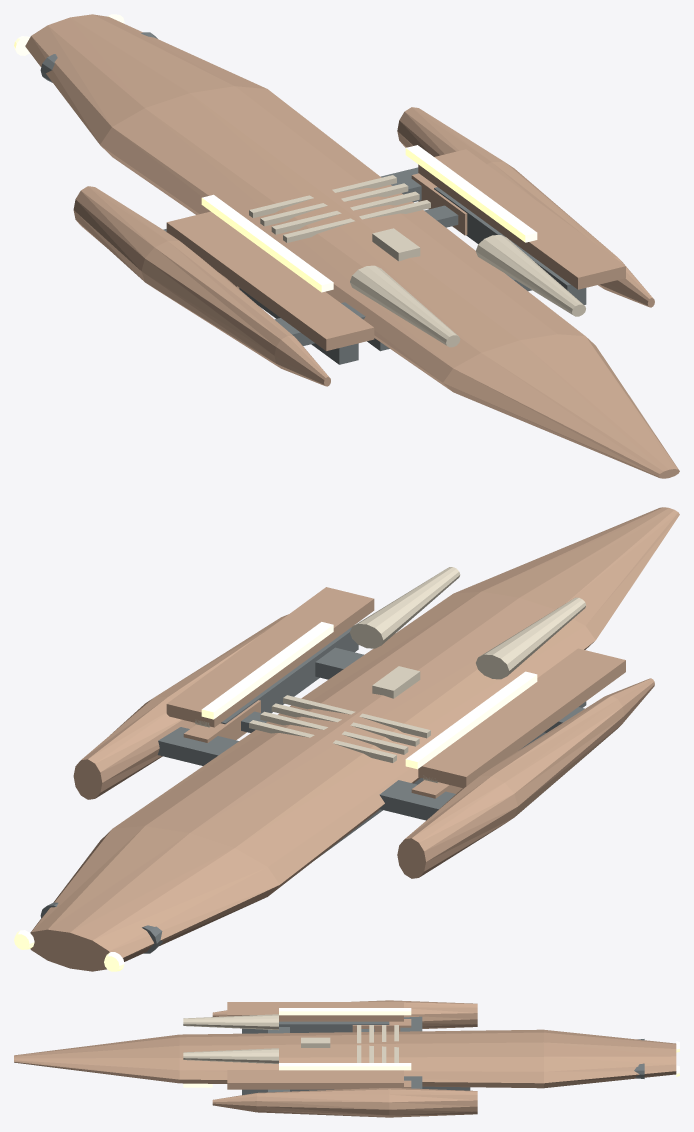
3 renders of one model, top to bottom at view 1: azimuth 30°, elevation 25°; view 2: azimuth 150°, elevation 25°; view 3: azimuth 270°, elevation 25°, orthographic. The views are drawn at different scales.
Bounding box in the file's own units: 6.53 × 1.68 × 18.1.
